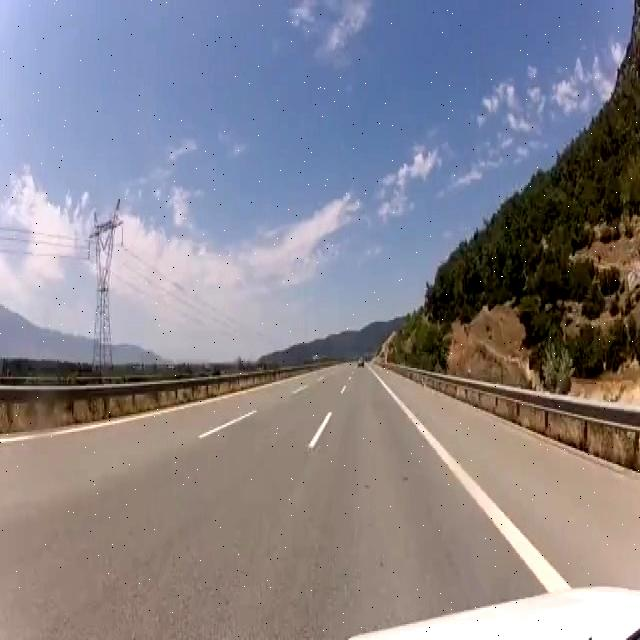lane: (368, 366, 569, 592), (198, 411, 258, 439), (308, 411, 332, 451), (295, 388, 306, 392)
road: (0, 363, 543, 636), (377, 368, 639, 588)
